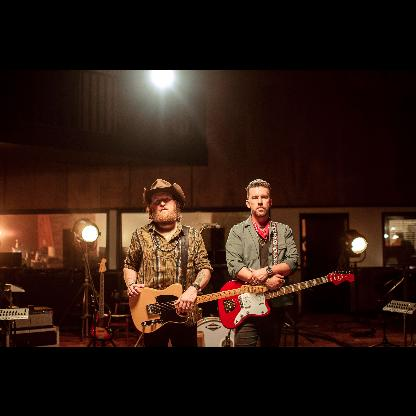guitar: (218, 271, 354, 329), (128, 280, 268, 332)
